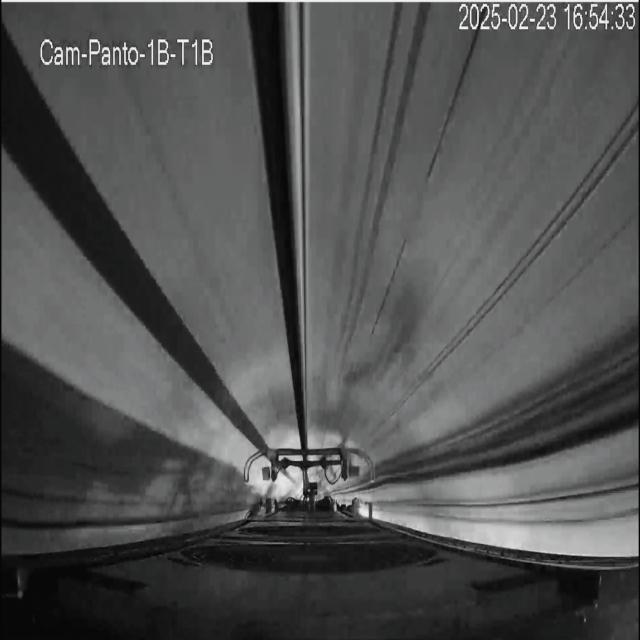Camera Stamp: (40, 34, 218, 69)
Date Stamp: (459, 3, 636, 33)
No - Spark: (250, 417, 366, 512)
